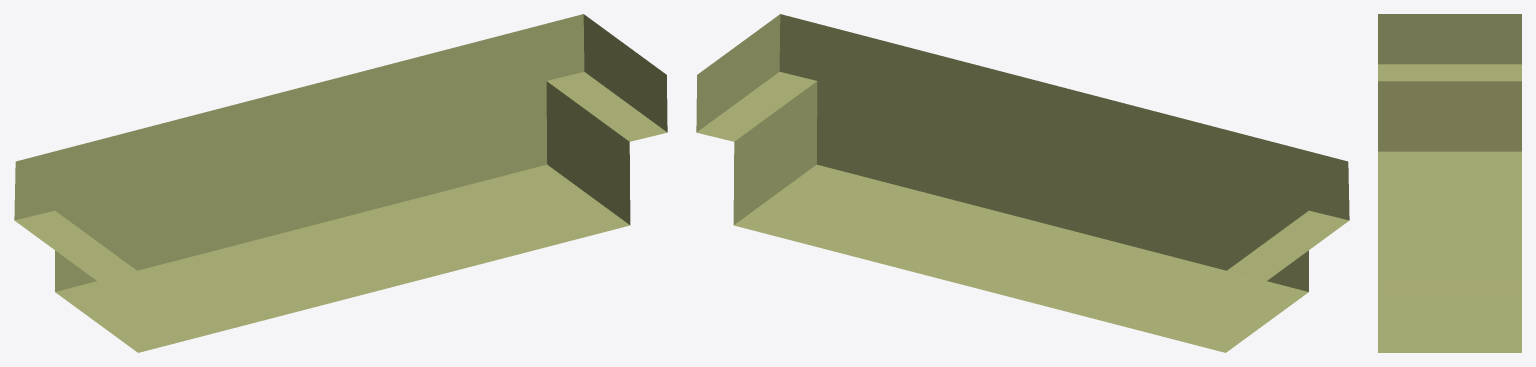
The picture shows the model from 3 angles, left to right: view 1: azimuth 30°, elevation 25°; view 2: azimuth 150°, elevation 25°; view 3: azimuth 270°, elevation 25°; orthographic projection. The views are drawn at different scales.
Visible parts, largest first — view 1: 0_3_1_3_0_3_0_0_3; view 2: 0_3_1_3_0_3_0_0_3; view 3: 0_3_1_3_0_3_0_0_3.
Part boxes in pixels (x1,y1,x2,y2): 0_3_1_3_0_3_0_0_3: (14, 14, 667, 352); 0_3_1_3_0_3_0_0_3: (696, 14, 1349, 352); 0_3_1_3_0_3_0_0_3: (1378, 14, 1521, 352).
Bounding box in the file's own units: 35.61 × 8.9 × 9.
